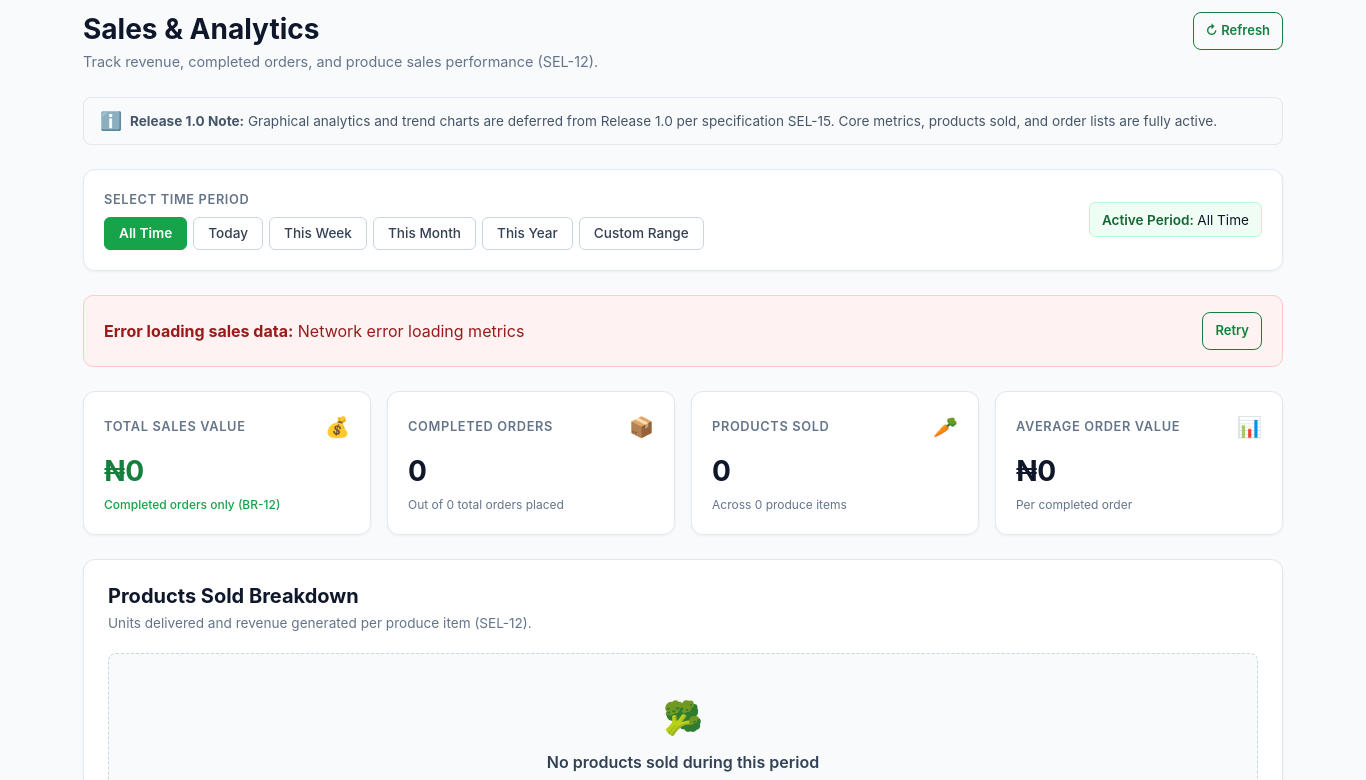
FE-093 / SEL-12: Seller Sales Page › 7. Error Resilience & Refresh (ERR-01, ERR-02) › renders error banner with retry button on API failure, and recovers upon retry
Expected: the message with test id "sales-error-state" shows "Network error loading metrics", [298,321,524,341]
Click the button with test id "sales-retry-btn" at (1232, 331), box [1202,312,1262,350]
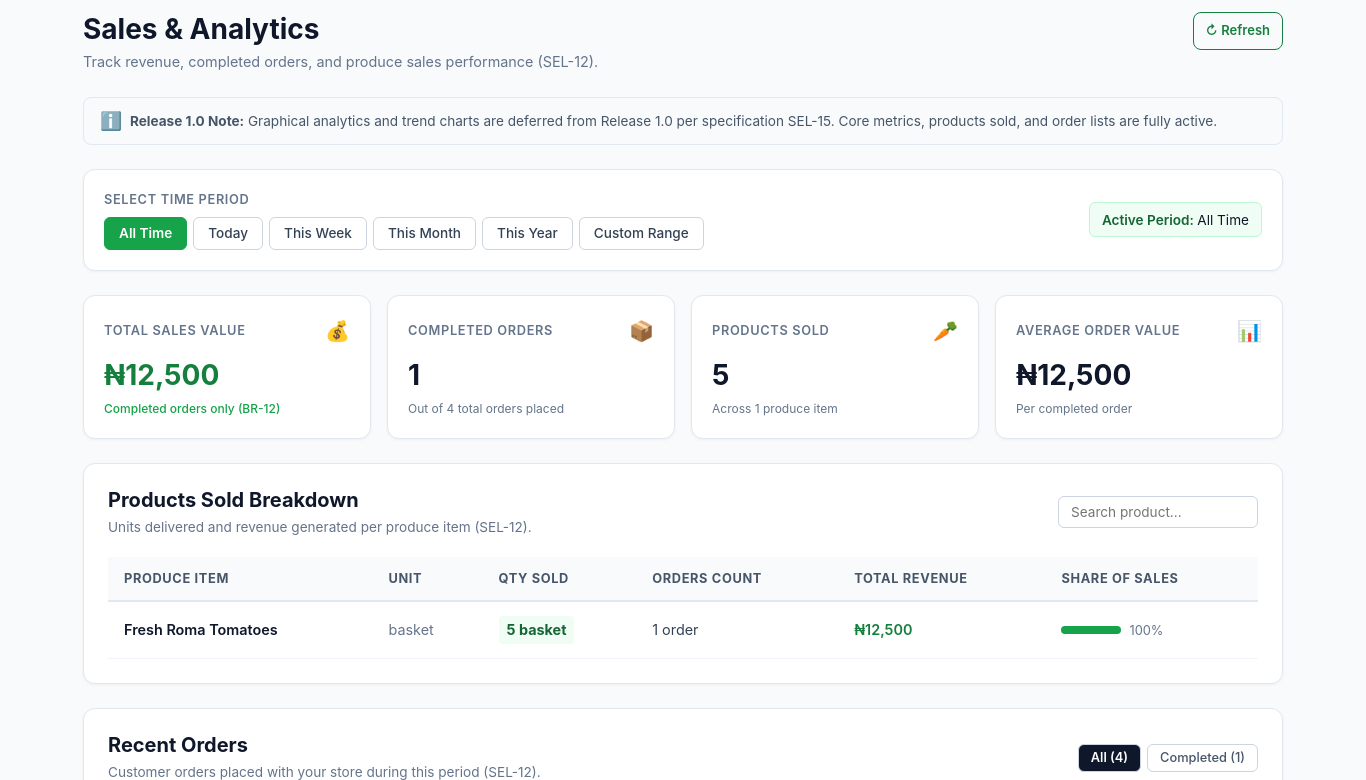
Expected: the element with test id "sales-kpi-grid" is shown, [83,295,1283,439]
Now the message with test id "sales-error-state" is gone
